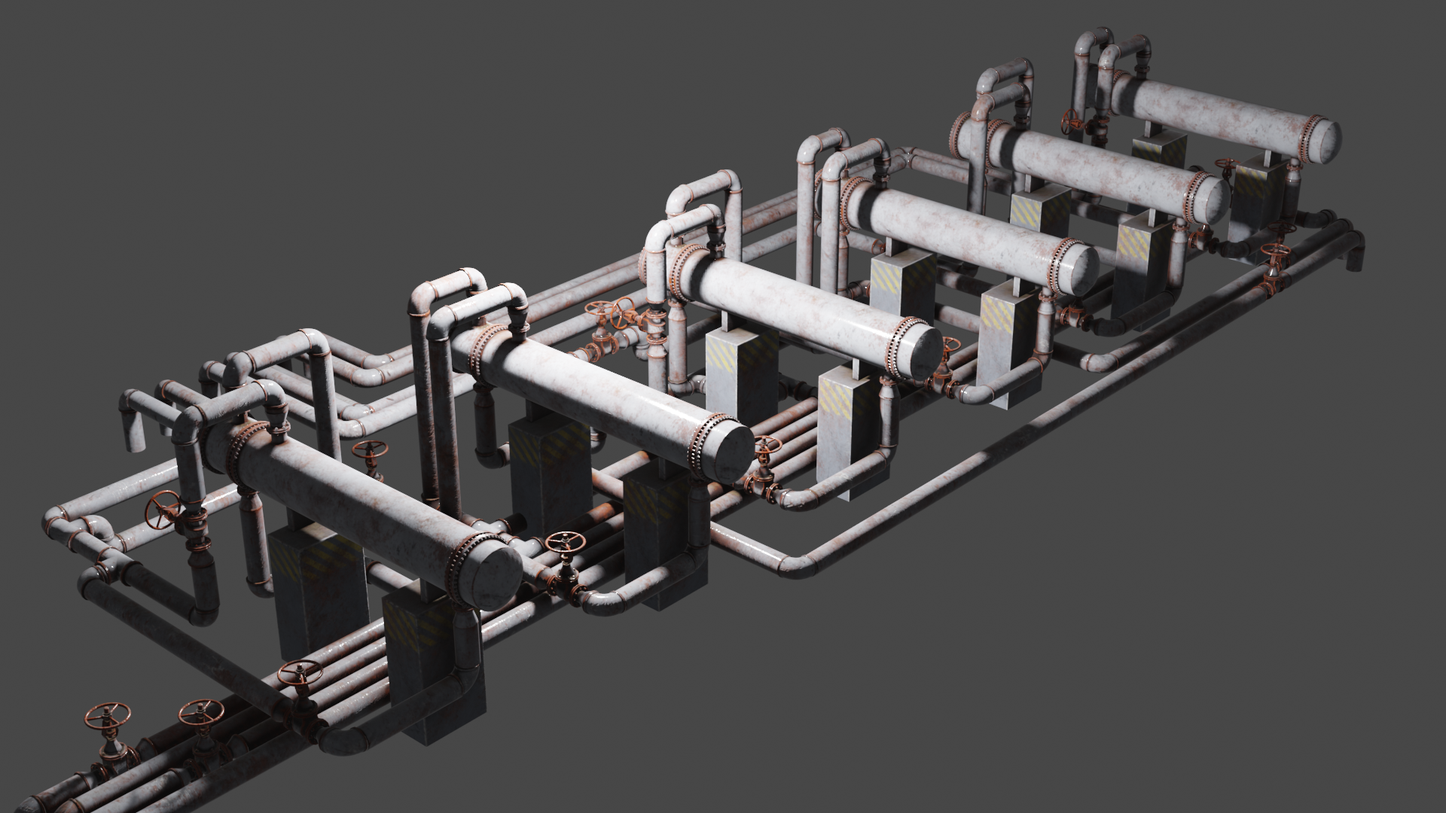HE_1: (1084, 63, 1343, 162)
HE_2: (946, 108, 1225, 227)
HE_3: (838, 176, 1097, 297)
HE_4: (632, 227, 944, 385)
HE_5: (451, 320, 754, 482)
HE_6: (200, 407, 524, 609)
